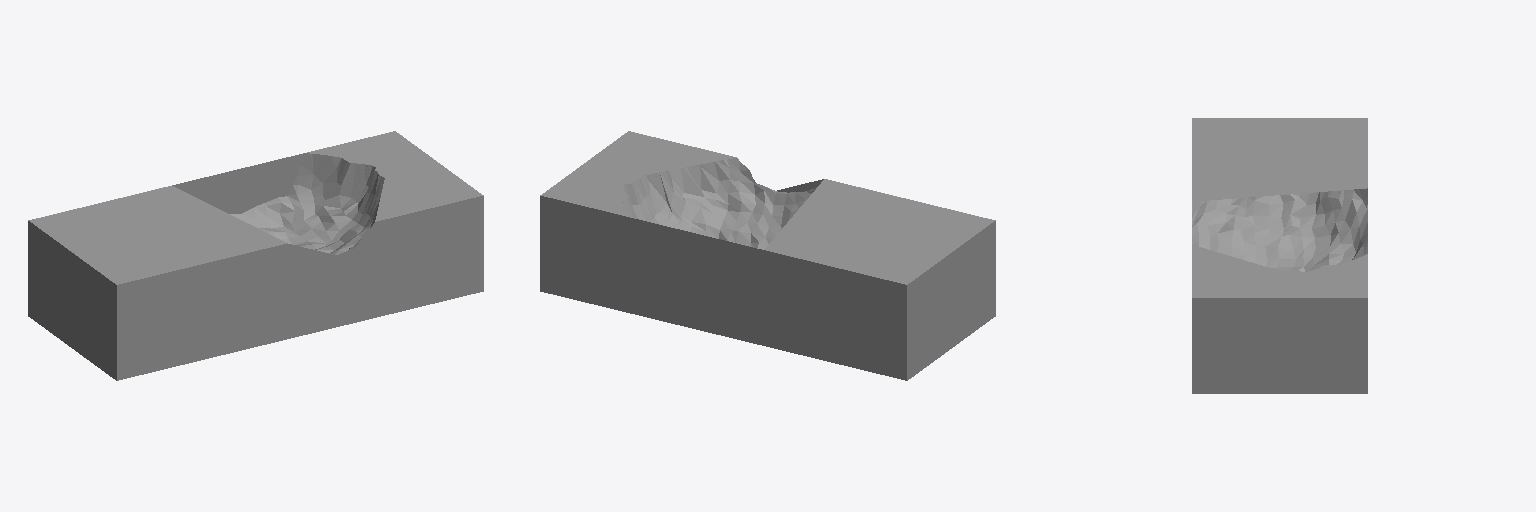
File: jus.obj
3 views of the same model, side by side, from view 1: azimuth 30°, elevation 25°; view 2: azimuth 150°, elevation 25°; view 3: azimuth 270°, elevation 25° (orthographic).
Parts seen in each view (by area): view 1: Cube; view 2: Cube; view 3: Cube.
Boxes of the visible parts, x1=… form: Cube: x1=28, y1=131, x2=483, y2=380; Cube: x1=540, y1=131, x2=995, y2=380; Cube: x1=1192, y1=118, x2=1367, y2=393.
Size of the model in its own units: 2.4 by 0.6 by 1.